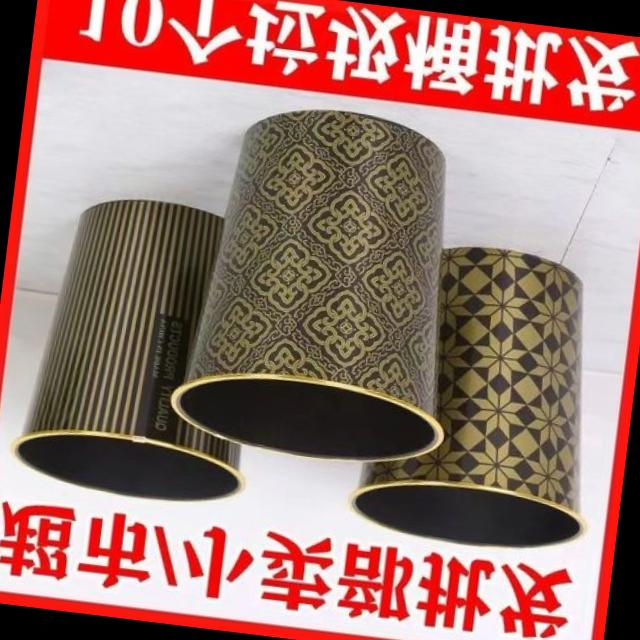dustbin: (162, 86, 485, 478), (344, 227, 626, 566), (5, 178, 281, 516)
